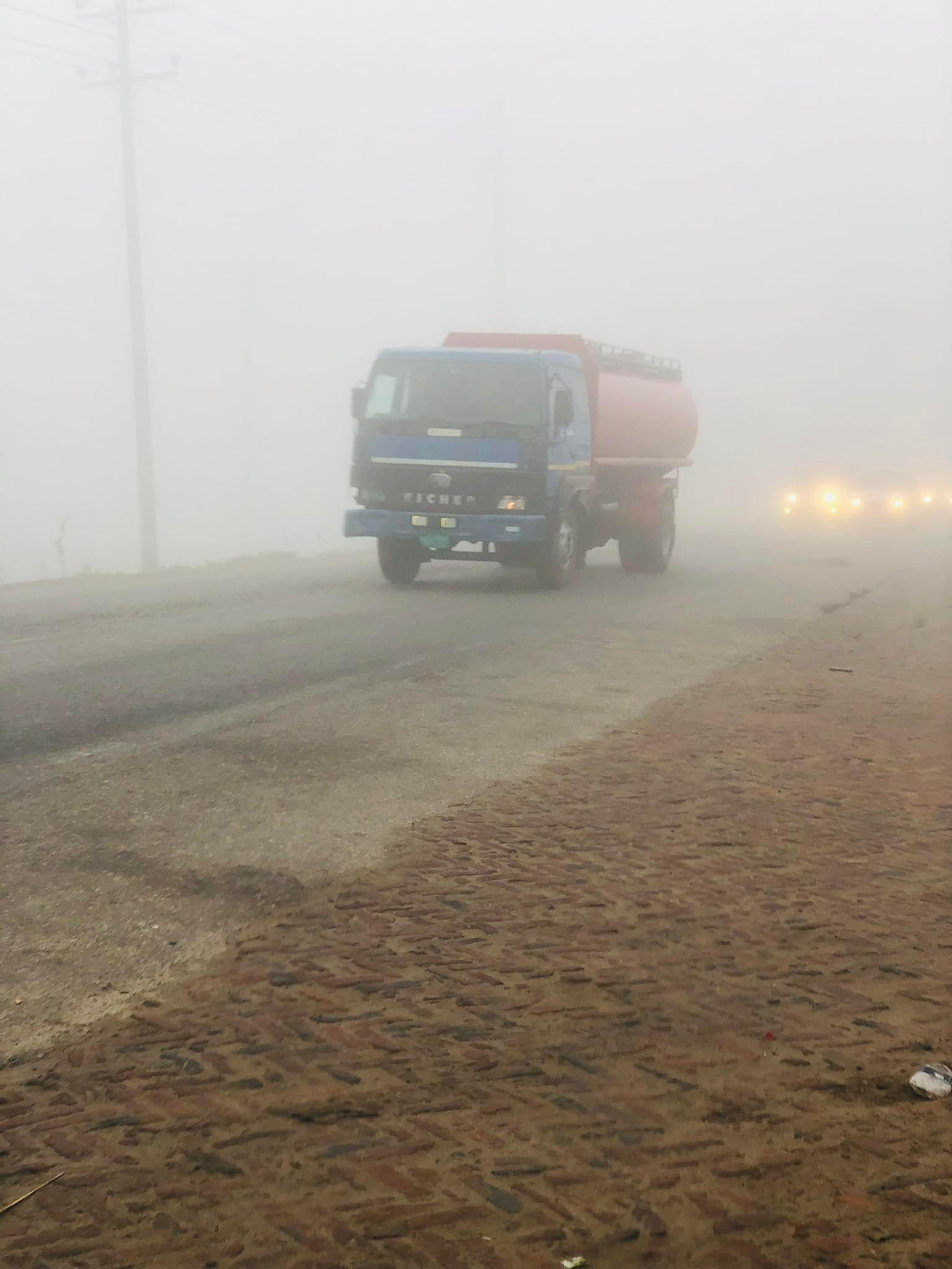Truck: (319, 315, 703, 615)
